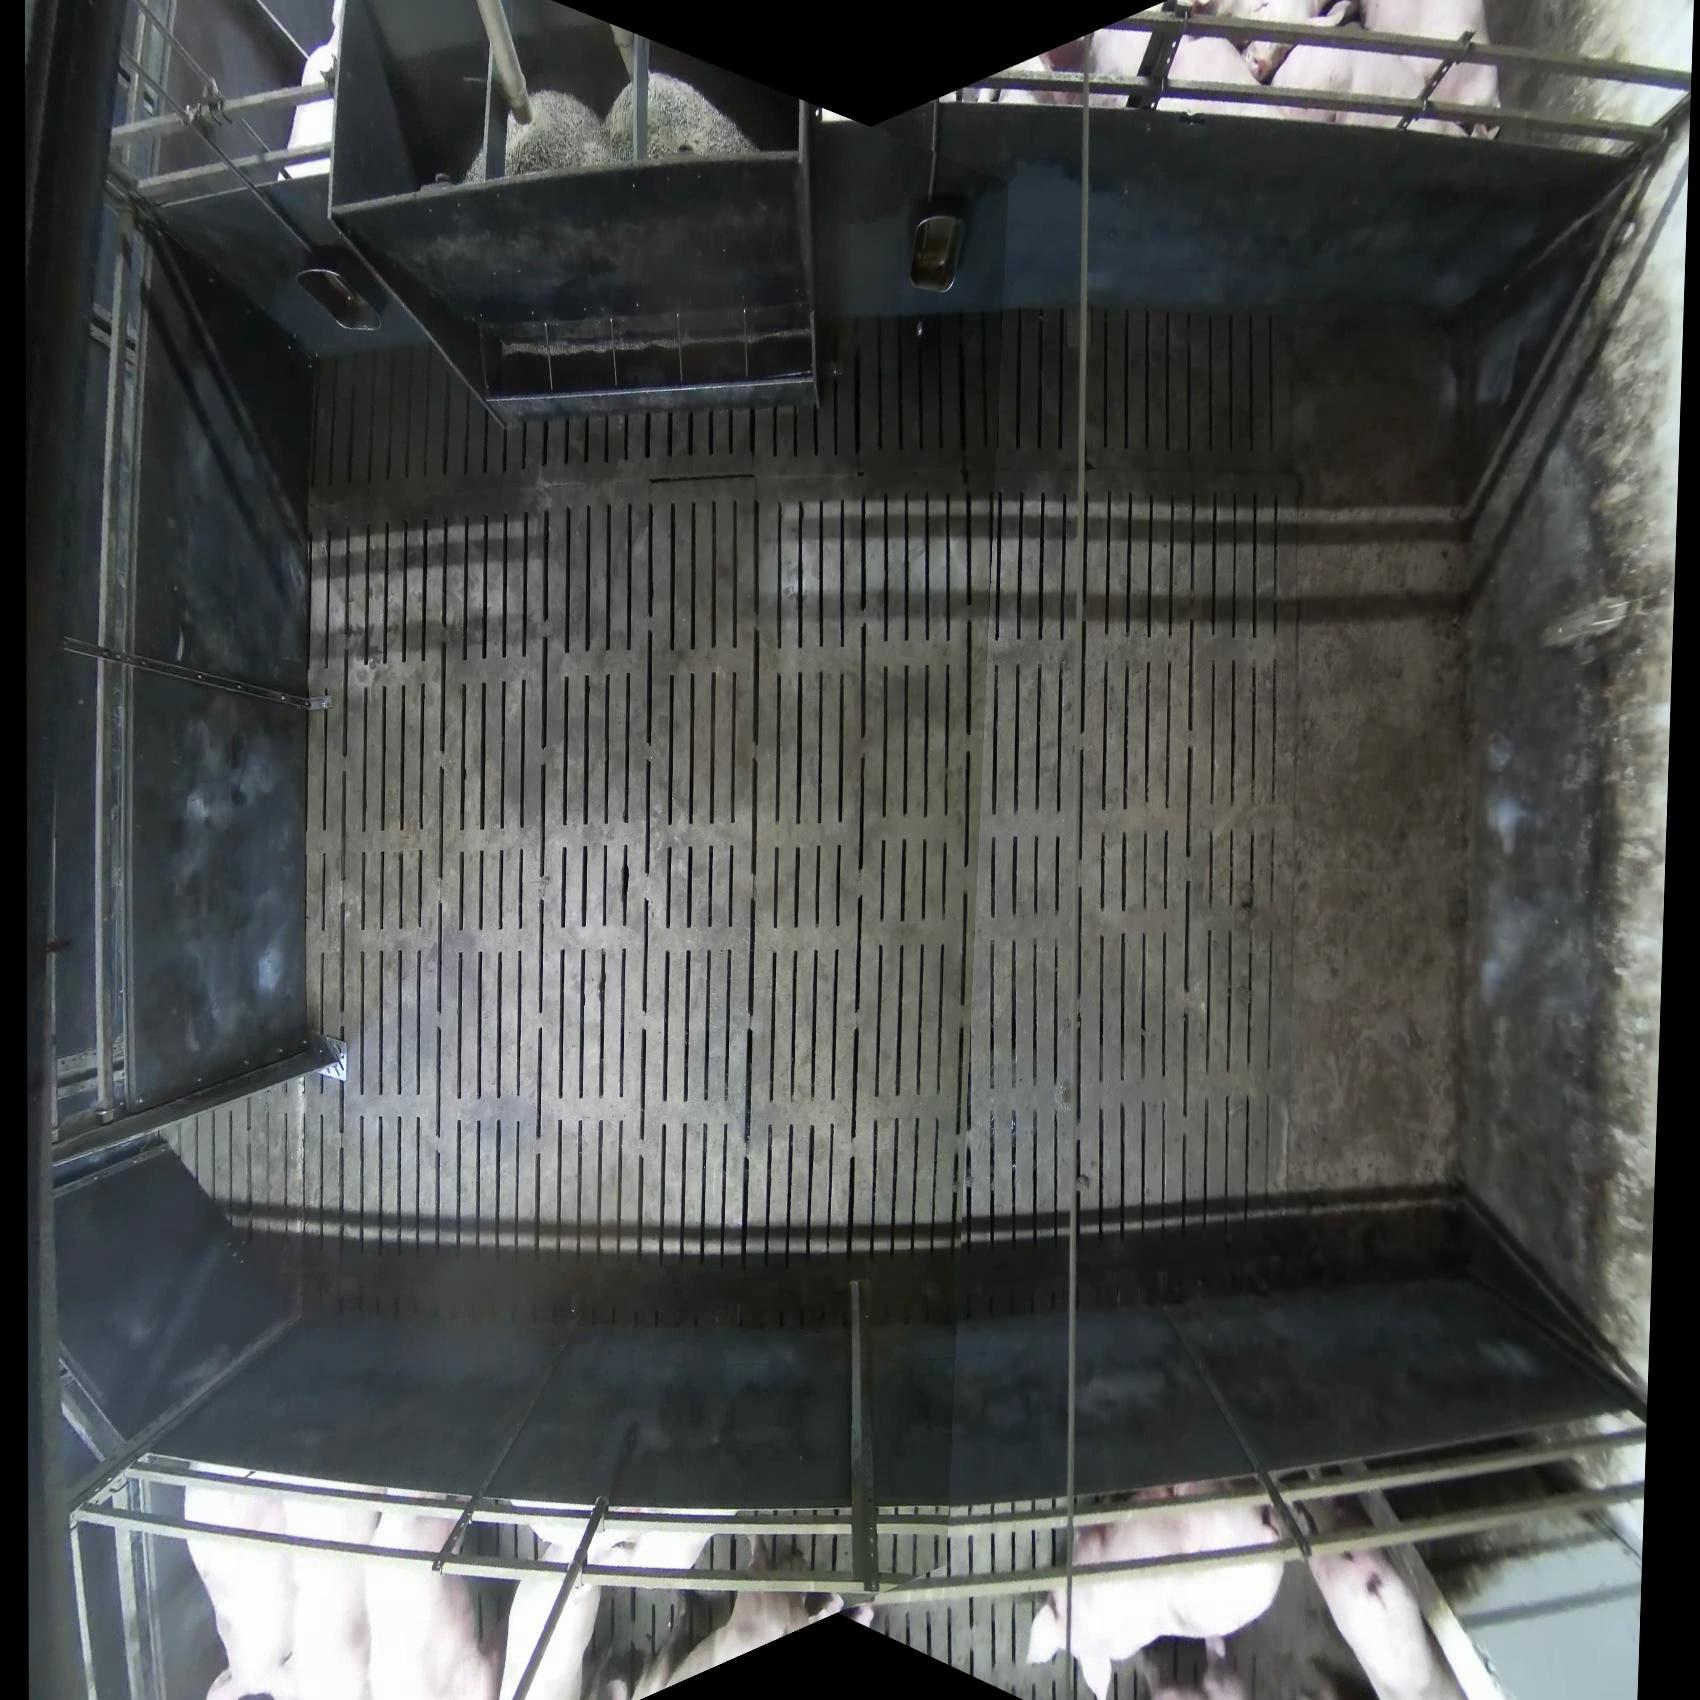pig: (1024, 1484, 1287, 1698), (1289, 1493, 1471, 1698)
